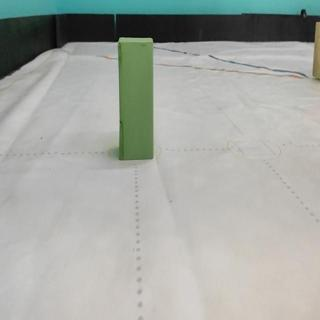greenbox: (117, 35, 155, 161)
